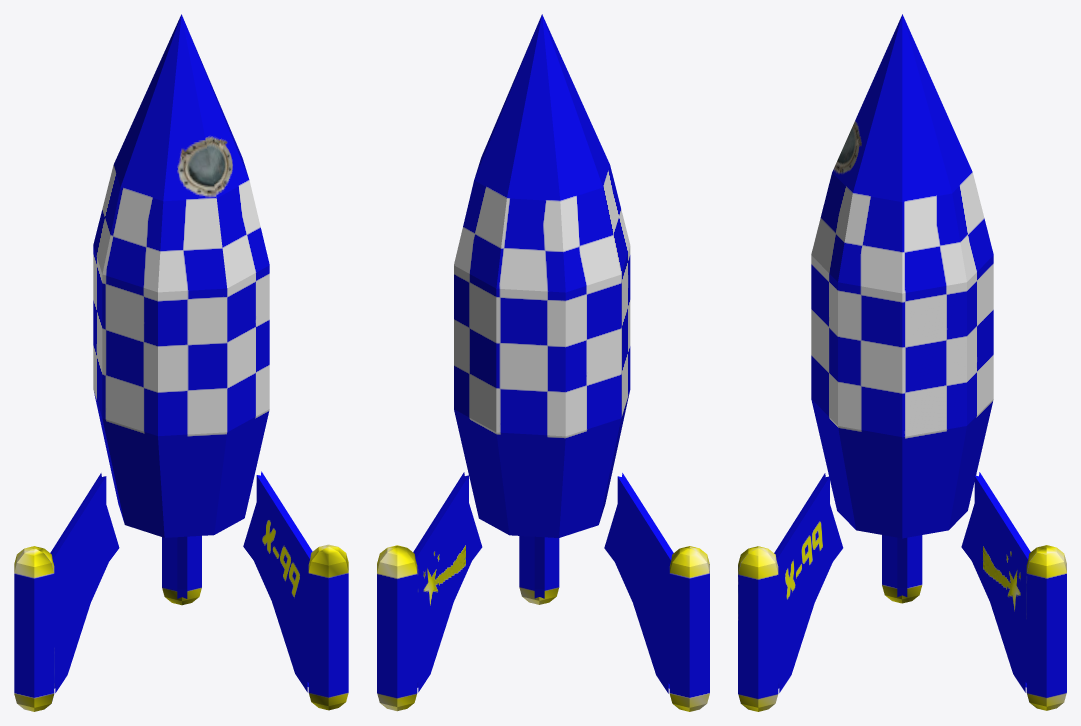
The model's file is rocket.glb.
3 views of the same model, side by side, from view 1: azimuth 30°, elevation 25°; view 2: azimuth 150°, elevation 25°; view 3: azimuth 270°, elevation 25° (orthographic).
Parts seen in each view (by area): view 1: rocket; view 2: rocket; view 3: rocket.
Boxes of the visible parts, x1=… form: rocket: x1=14, y1=14, x2=348, y2=711; rocket: x1=377, y1=14, x2=709, y2=711; rocket: x1=738, y1=14, x2=1066, y2=711.
Bounding box in the file's own units: 165 × 396 × 179.
Materials: 1 (1 with a texture image).
